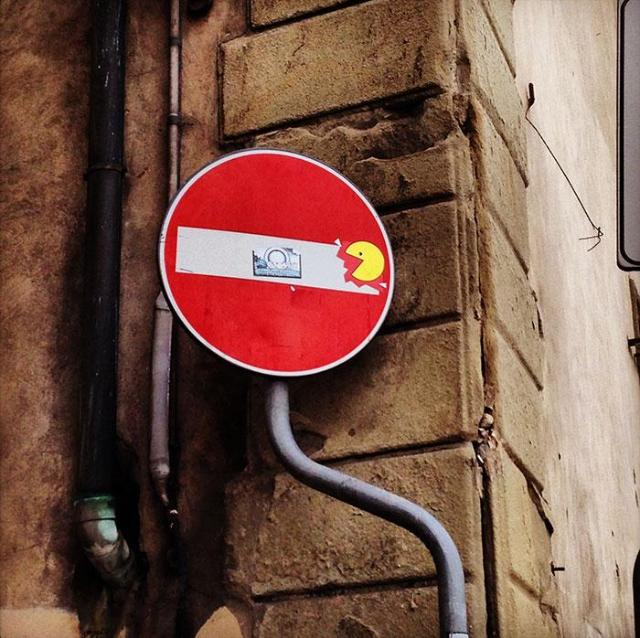B2: (154, 144, 398, 378)
